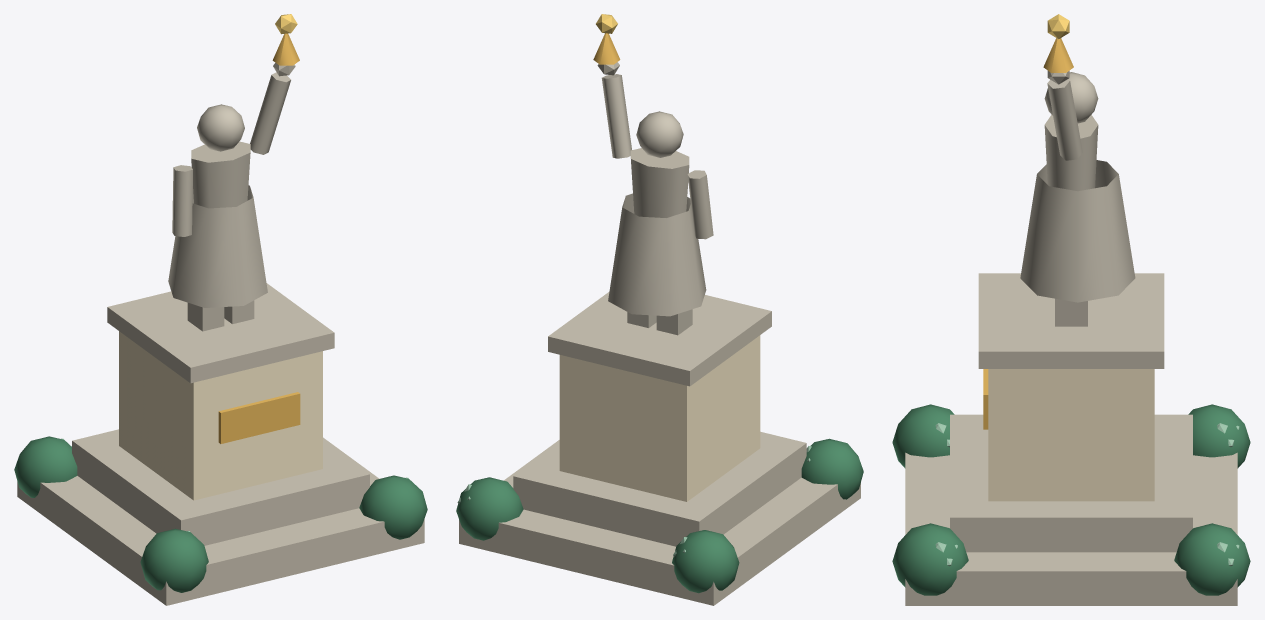
File: deco_statue.glb
3 renders of one model, left to right at view 1: azimuth 30°, elevation 25°; view 2: azimuth 150°, elevation 25°; view 3: azimuth 270°, elevation 25°, orthographic. The views are drawn at different scales.
Parts seen in each view (by area): view 1: deco_statue; view 2: deco_statue; view 3: deco_statue.
Part boxes in pixels (left/top/right/bottom): deco_statue: left=14, top=14, right=427, bottom=605; deco_statue: left=456, top=14, right=863, bottom=605; deco_statue: left=892, top=14, right=1250, bottom=605.
Size of the model in its own units: 2.8 by 4.76 by 2.8.
